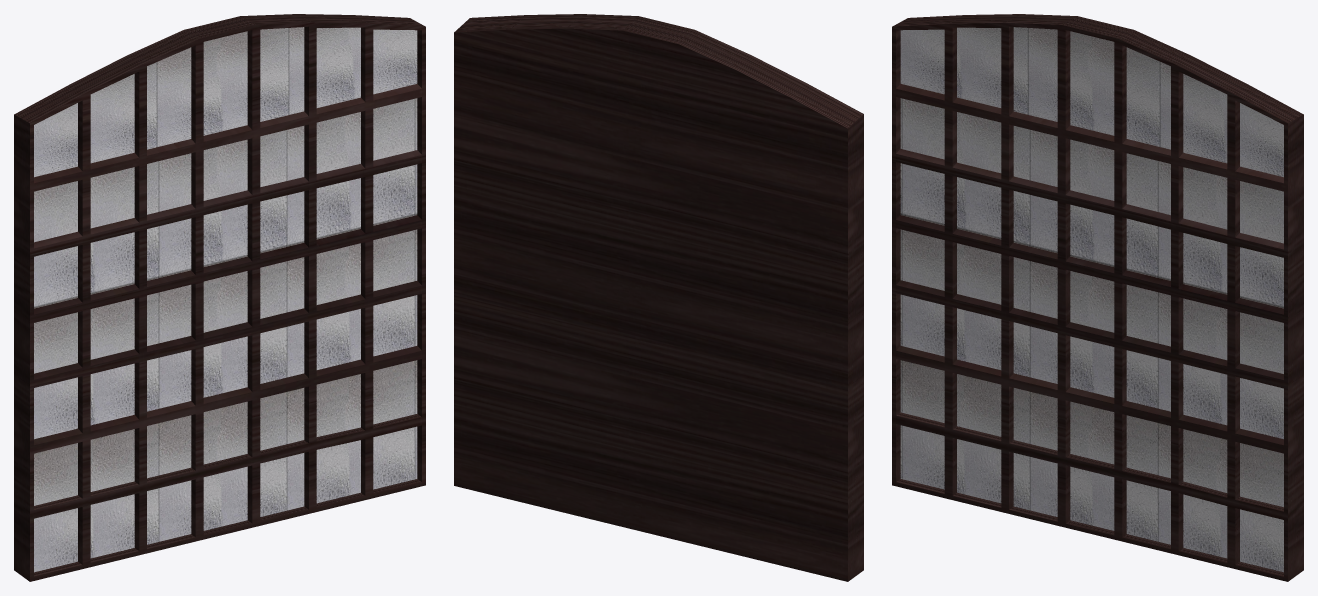
File: Window.FBX
The picture shows the model from 3 angles, left to right: view 1: azimuth 30°, elevation 25°; view 2: azimuth 150°, elevation 25°; view 3: azimuth 330°, elevation 25°; orthographic projection.
Parts seen in each view (by area): view 1: Box001; view 2: Box001; view 3: Box001.
Boxes of the visible parts, bbox=[...] form: Box001: bbox=[14, 14, 425, 581]; Box001: bbox=[454, 14, 863, 581]; Box001: bbox=[892, 14, 1303, 581].
Bounding box in the file's own units: 100 × 7 × 121.
2 materials, 2 textured.
